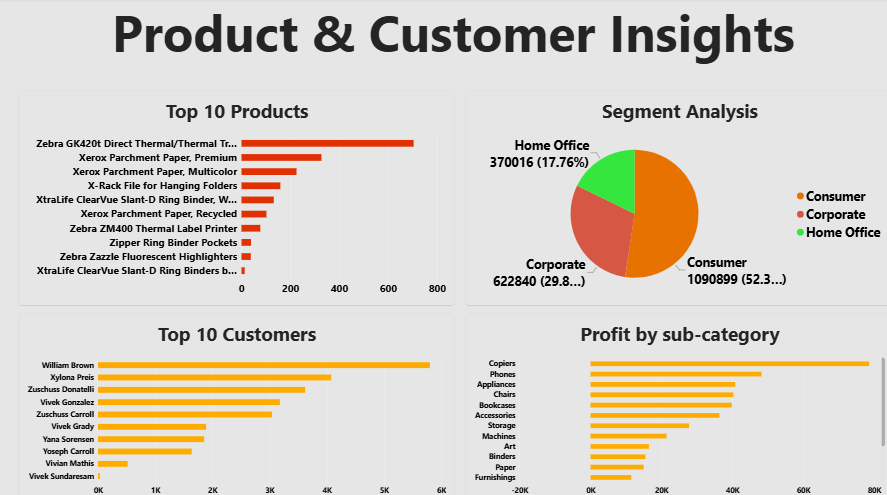

This screenshot's page, from the dashboard's own definition file:
{"tool":"powerbi","page":{"name":"Product & customer insights","canvas":[1920,1080],"ordinal":2},"visuals":[{"type":"textbox","box":[9,0,1953.5,161.9],"z":0},{"type":"barChart","title":"Top 10 Products","fields":{"Category":["cleaned_sales_data.product_name"],"Y":["Sum(cleaned_sales_data.sales)"]},"box":[61.7,197.7,924.8,455],"z":1},{"type":"pieChart","title":"Segment Analysis","fields":{"Category":["cleaned_sales_data.segment"],"Y":["Sum(cleaned_sales_data.sales)"]},"box":[1012,197.7,907.8,455],"z":3},{"type":"barChart","title":"Profit by sub-category","fields":{"Category":["cleaned_sales_data.sub_category"],"Y":["Sum(cleaned_sales_data.profit)"]},"box":[1012,671.8,907.8,408.2],"z":4},{"type":"barChart","title":"Top 10 Customers","fields":{"Category":["cleaned_sales_data.customer_name"],"Y":["Sum(cleaned_sales_data.sales)"]},"box":[61.7,671.8,924.8,408.2],"z":5}]}

Visuals, with their boxes in screenshot pixels (x1, y1, x2, y2), scaled from the page's 1920x1080 canvas onto the 887x495 screenshot:
textbox: x1=4, y1=0, x2=886, y2=74
"Top 10 Products" barChart: x1=29, y1=91, x2=456, y2=299
"Segment Analysis" pieChart: x1=468, y1=91, x2=886, y2=299
"Profit by sub-category" barChart: x1=468, y1=308, x2=886, y2=494
"Top 10 Customers" barChart: x1=29, y1=308, x2=456, y2=494
